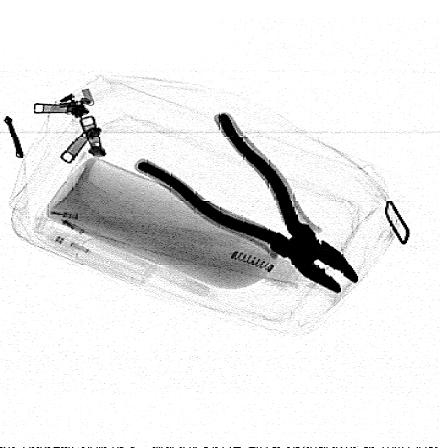Pliers: (136, 111, 361, 294)
